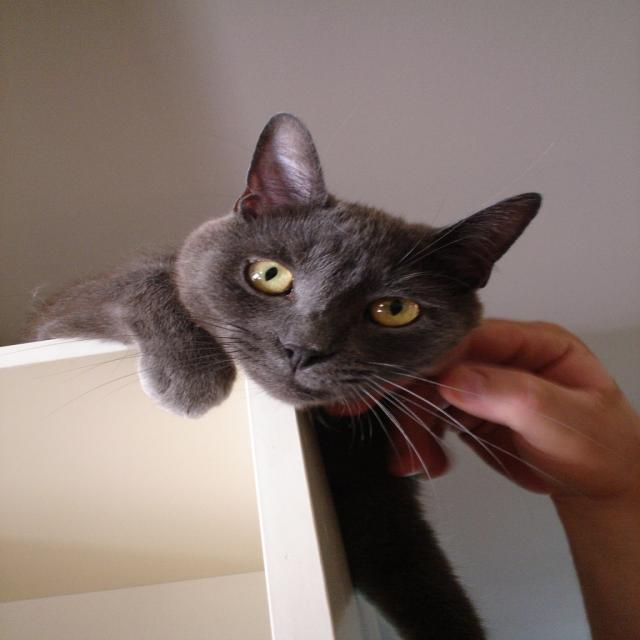cat: (28, 112, 545, 639)
